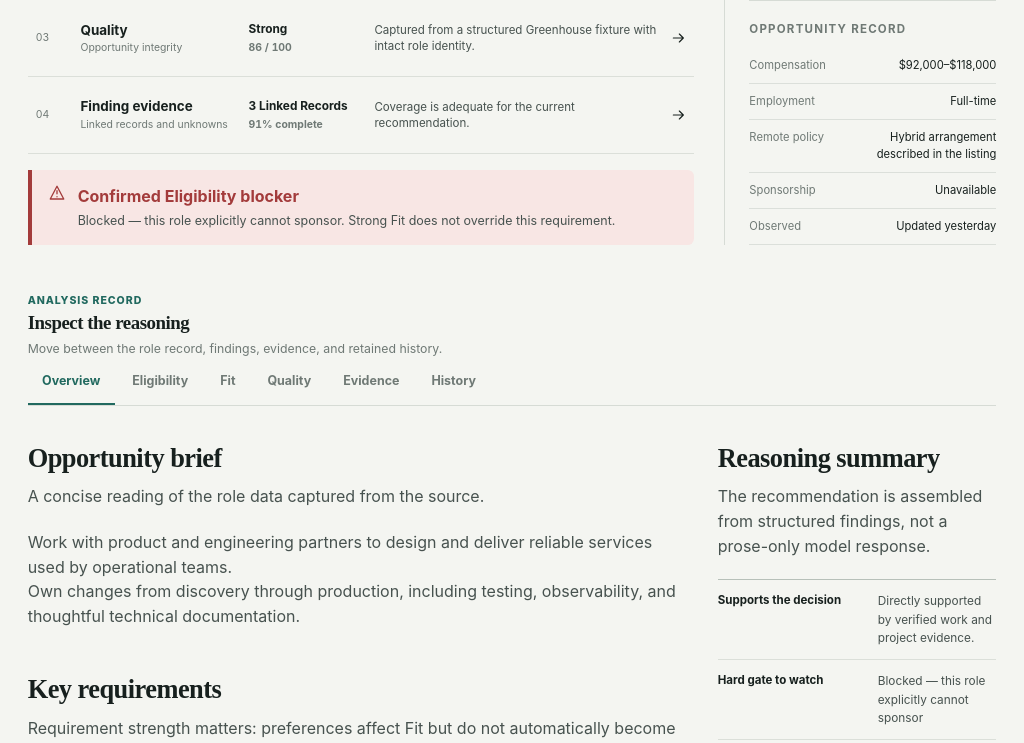
it: opportunity detail › makes a confirmed blocker unmistakable while retaining strong Fit
(page scrolled)
Expected: the text "Confirmed Eligibility blocker" is shown, [78, 186, 299, 206]
Click the tab "Eligibility". click: (160, 382)
box: [118, 358, 203, 405]
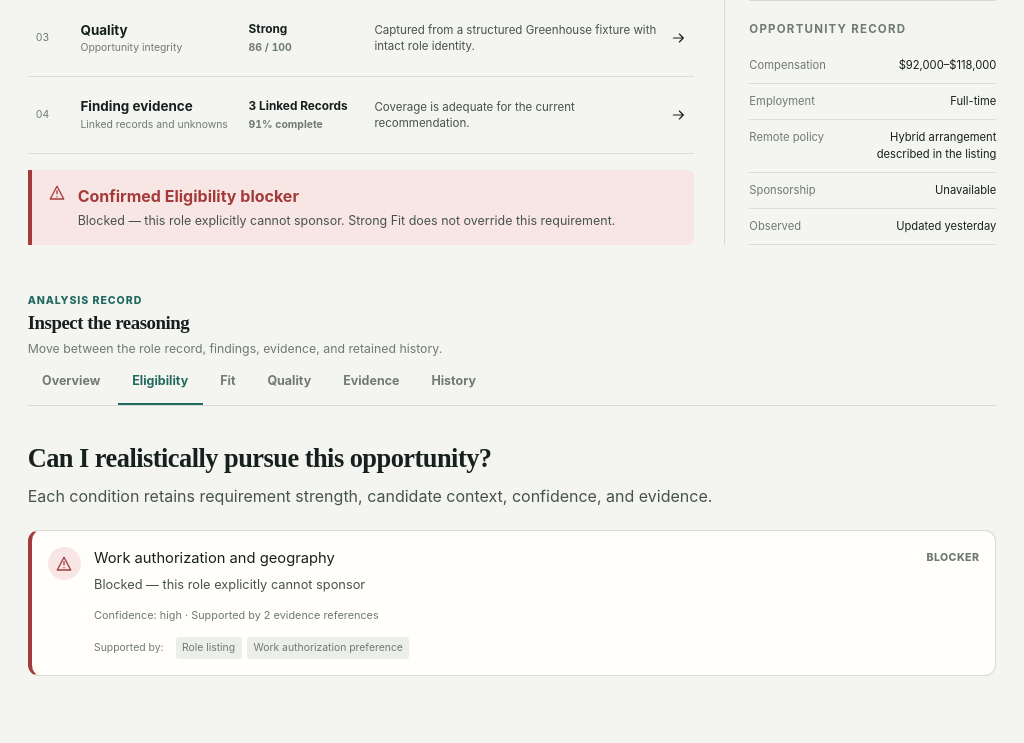
Expected: the heading "Can I realistically pursue this opportunity?" is shown, [28, 443, 491, 473]
